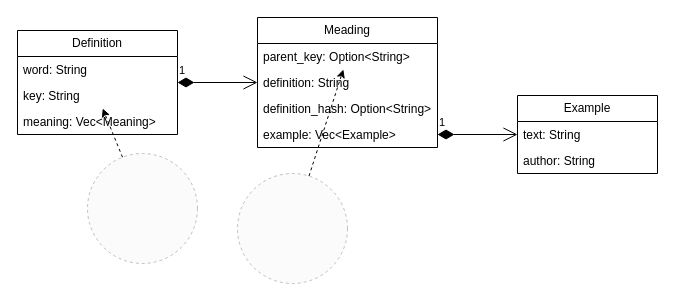
Some shapes in this 675 by 301 pixel diagram are drawn without their labels. Here are the shapes that lost their labels. From the top down, the centre of each, then its label:
At (142,208): "key is a space separated string of all word's flexions; full text indexed".
At (292,228): "parent key is the hash code of the parent's definition".
